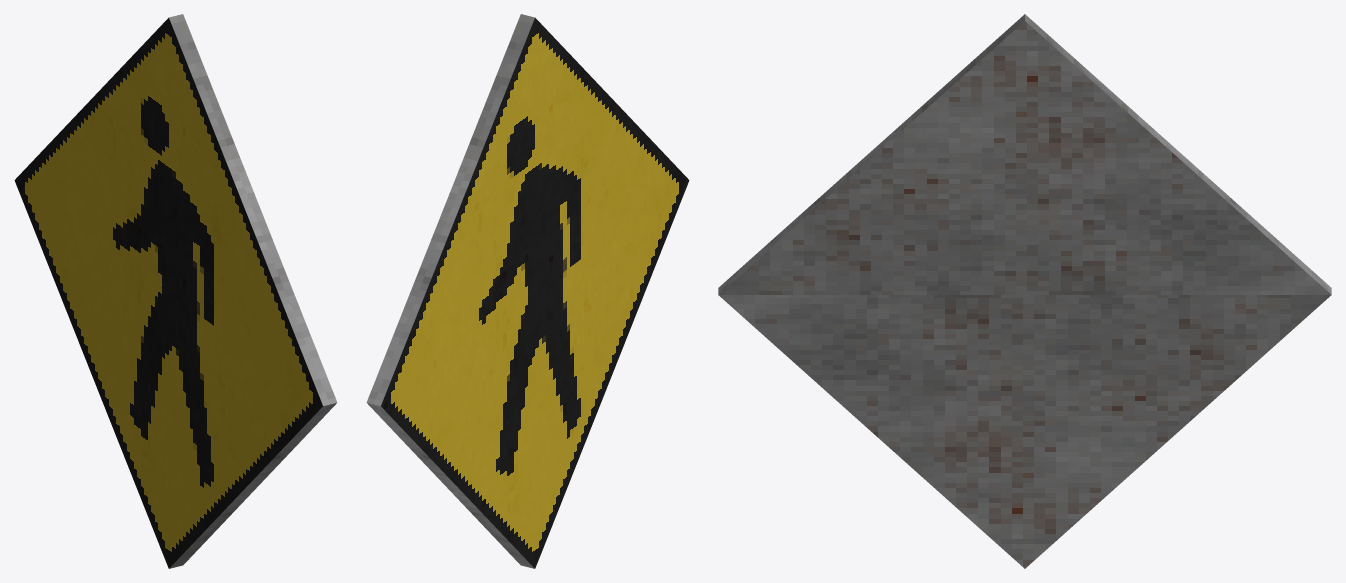
The model's file is Sign_Crossing_Plate.glb.
3 renders of one model, left to right at view 1: azimuth 30°, elevation 25°; view 2: azimuth 150°, elevation 25°; view 3: azimuth 270°, elevation 25°, orthographic.
Parts seen in each view (by area): view 1: Sign_Crossing_Plate; view 2: Sign_Crossing_Plate; view 3: Sign_Crossing_Plate.
Part boxes in pixels (x1,y1,x2,y2): Sign_Crossing_Plate: [14, 14, 337, 568]; Sign_Crossing_Plate: [366, 14, 689, 568]; Sign_Crossing_Plate: [718, 14, 1331, 568].
Bounding box in the file's own units: 0.0152 × 0.5584 × 0.5665.
Materials: 1 (1 with a texture image).
